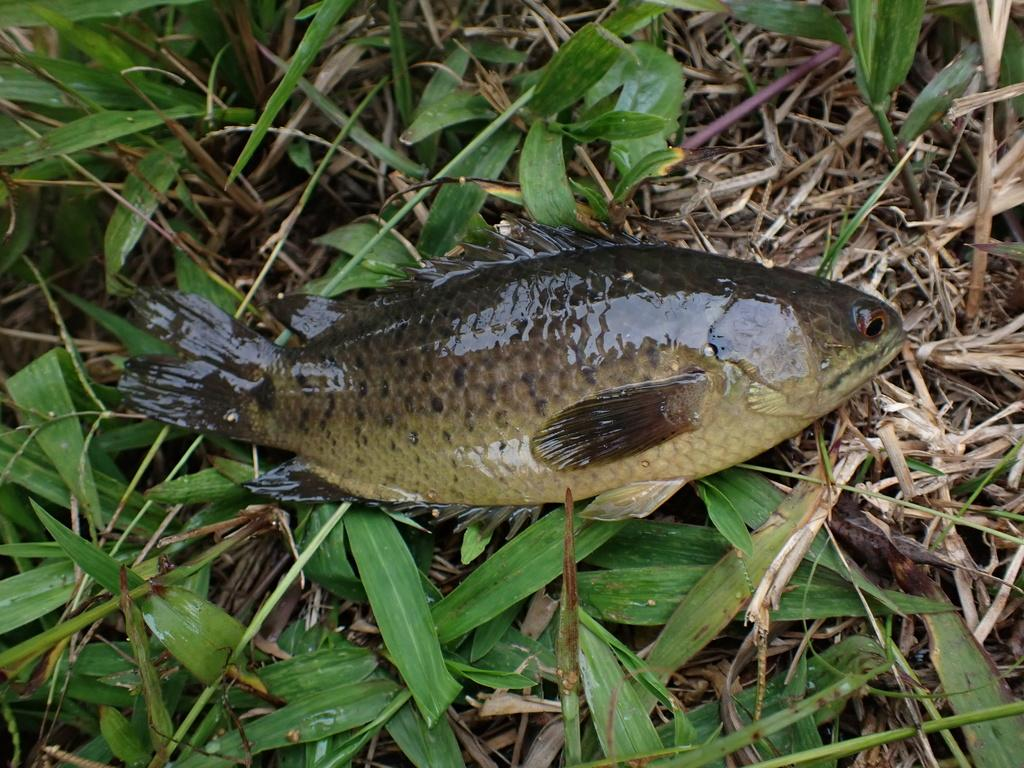Climbing Perch: (115, 208, 908, 532)
